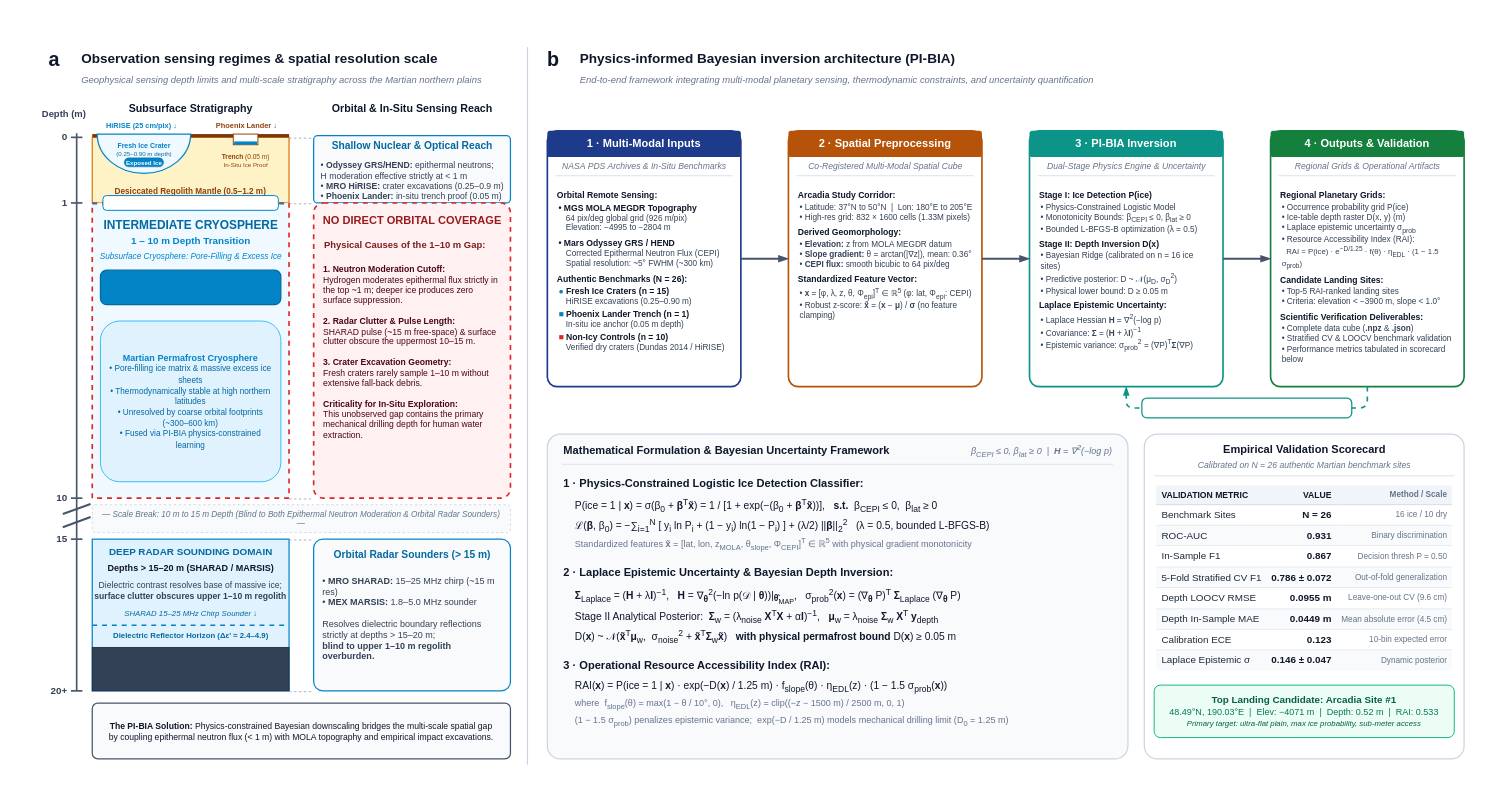
Some shapes in this 1504 by 807 pixel diagram are drawn without their labels. Here are the shapes that lost their labels. From the top down, the centre of each, then its label:
At point 190,202: "Ice-Table Interface (z = D; 0.05–1.2 m)".
At point 190,287: "PRIMARY TARGET FOR HUMAN ISRU Mechanically accessible for drills (< 3 m depth)".
At point 1246,407: "Stratified 5-Fold & LOOCV Generalization Assessment".
At point 190,669: "Basaltic Bedrock Basement (ε' ≈ 5.5–8.0)".
